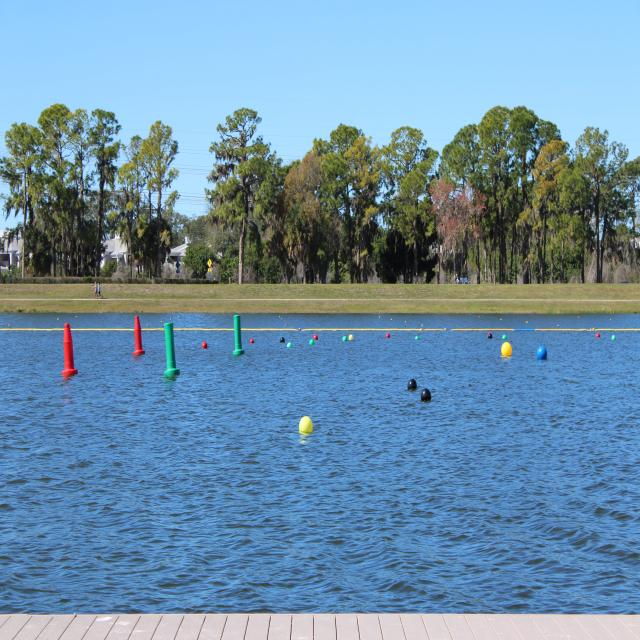black-buoy: (421, 388, 432, 402), (408, 380, 418, 392)
blue-buoy: (536, 344, 548, 362)
green-buoy: (308, 340, 312, 348)
green-column-buoy: (162, 323, 178, 379), (234, 314, 245, 355)
red-buoy: (203, 342, 209, 350), (314, 336, 319, 342), (250, 339, 254, 346)
red-column-buoy: (64, 322, 78, 375), (134, 317, 145, 358)
yellow-buoy: (298, 417, 312, 437), (501, 342, 512, 359)
